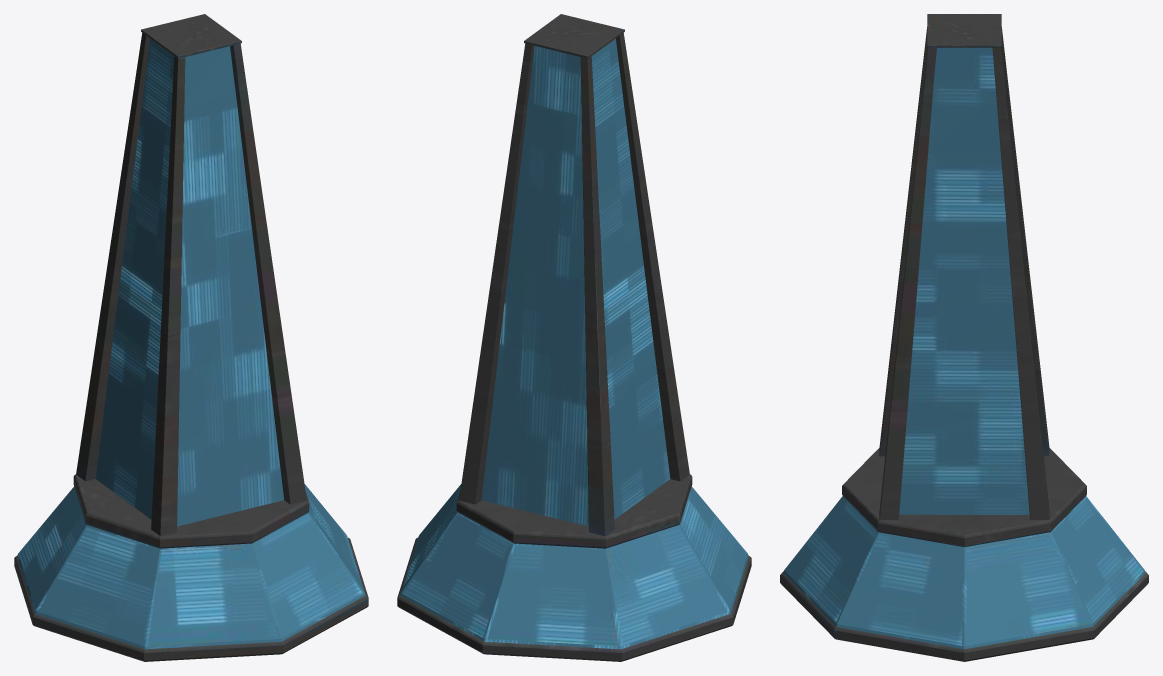
The model's file is scifi-b6.gltf.
The picture shows the model from 3 angles, left to right: view 1: azimuth 30°, elevation 25°; view 2: azimuth 150°, elevation 25°; view 3: azimuth 270°, elevation 25°; orthographic projection.
Parts seen in each view (by area): view 1: lod0; view 2: lod0; view 3: lod0.
Boxes of the visible parts, box(x1,y1,x2,y2) form: lod0: box(14, 14, 368, 661); lod0: box(397, 14, 751, 661); lod0: box(780, 14, 1148, 661).
Size of what is drawn, in the model's own units: 132 by 220 by 132.
Materials: 1 (1 with a texture image).
